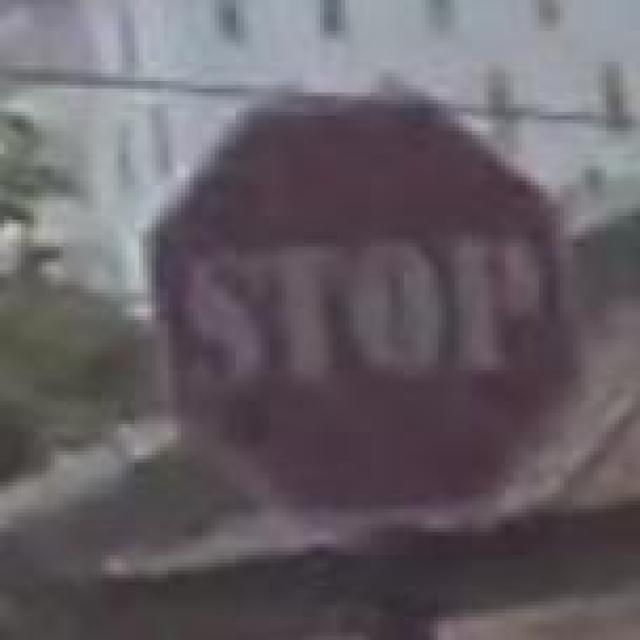traffic sign: (181, 112, 572, 517)
